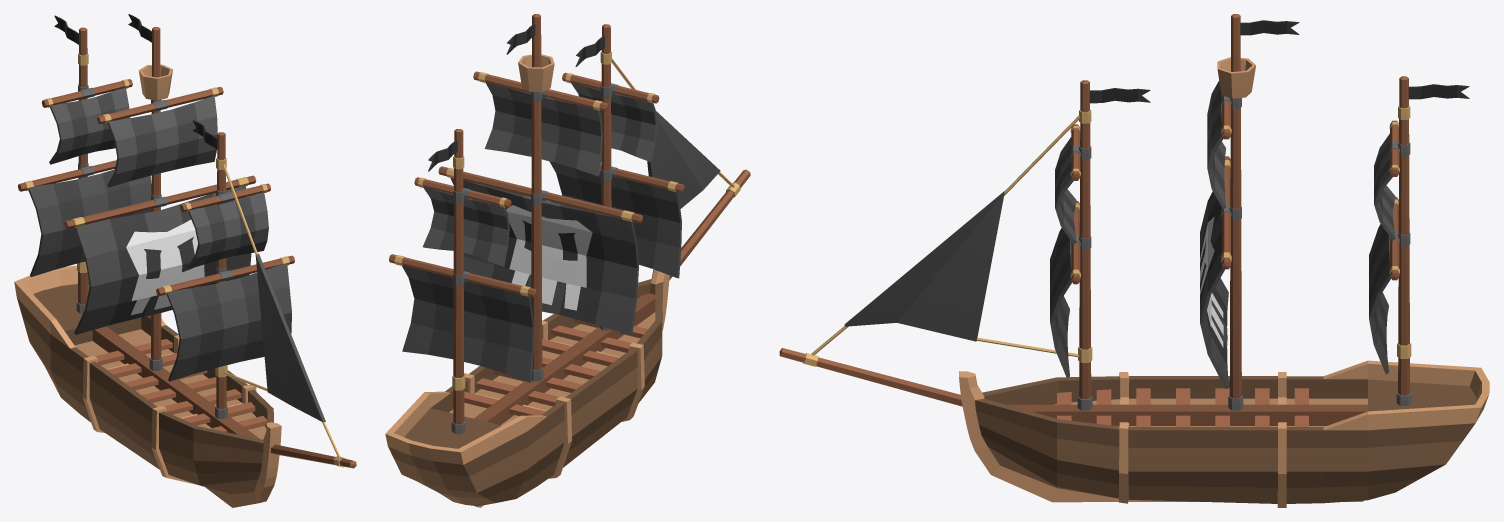
Rendered from pirate-ship.glb.
The picture shows the model from 3 angles, left to right: view 1: azimuth 30°, elevation 25°; view 2: azimuth 150°, elevation 25°; view 3: azimuth 270°, elevation 25°; orthographic projection. The views are drawn at different scales.
Parts seen in each view (by area): view 1: pirate ship; view 2: pirate ship; view 3: pirate ship.
Boxes of the visible parts, x1,y1,x2,y2 form: pirate ship: (14, 14, 356, 507); pirate ship: (385, 14, 750, 507); pirate ship: (779, 14, 1489, 507).
Size of the model in its own units: 8.41 by 17.86 by 23.62.
1 material, 1 textured.
